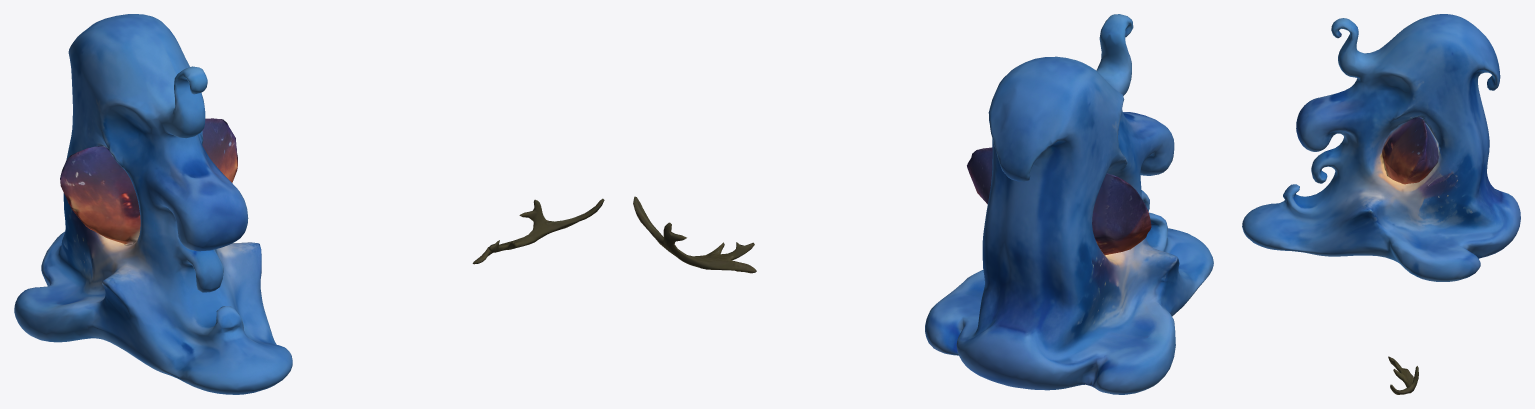
Rendered from slime.glb.
3 renders of one model, left to right at view 1: azimuth 30°, elevation 25°; view 2: azimuth 150°, elevation 25°; view 3: azimuth 270°, elevation 25°, orthographic. The views are drawn at different scales.
Visible parts, largest first — view 1: tripo_node_597a8a73-68f4-4c40-855c-8d96103f6d0f; view 2: tripo_node_597a8a73-68f4-4c40-855c-8d96103f6d0f; view 3: tripo_node_597a8a73-68f4-4c40-855c-8d96103f6d0f.
Boxes of the visible parts, x1,y1,x2,y2 form: tripo_node_597a8a73-68f4-4c40-855c-8d96103f6d0f: (14, 14, 604, 394); tripo_node_597a8a73-68f4-4c40-855c-8d96103f6d0f: (633, 14, 1213, 394); tripo_node_597a8a73-68f4-4c40-855c-8d96103f6d0f: (1242, 14, 1520, 394).
Bounding box in the file's own units: 0.5704 × 0.3 × 0.3273.
1 material, 1 textured.
